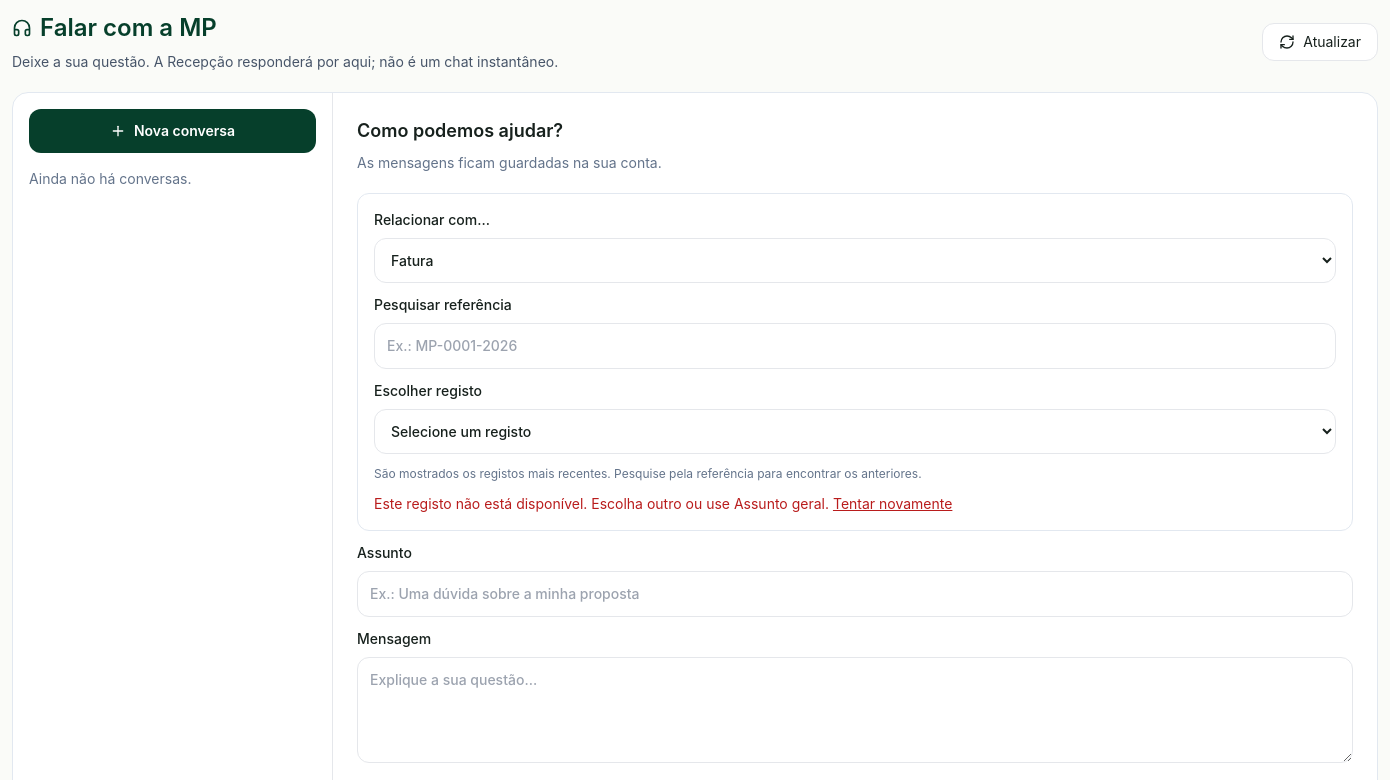
Test case: SupportDesk › blocks an unavailable deep link and permits switching to general
The image size is (1390, 780).
Check: the message shows "Este registo não está disponível", box [374, 495, 829, 512]
Type "Ajuda" into the field labelled "Assunto" at (855, 594), box [357, 571, 1353, 617]
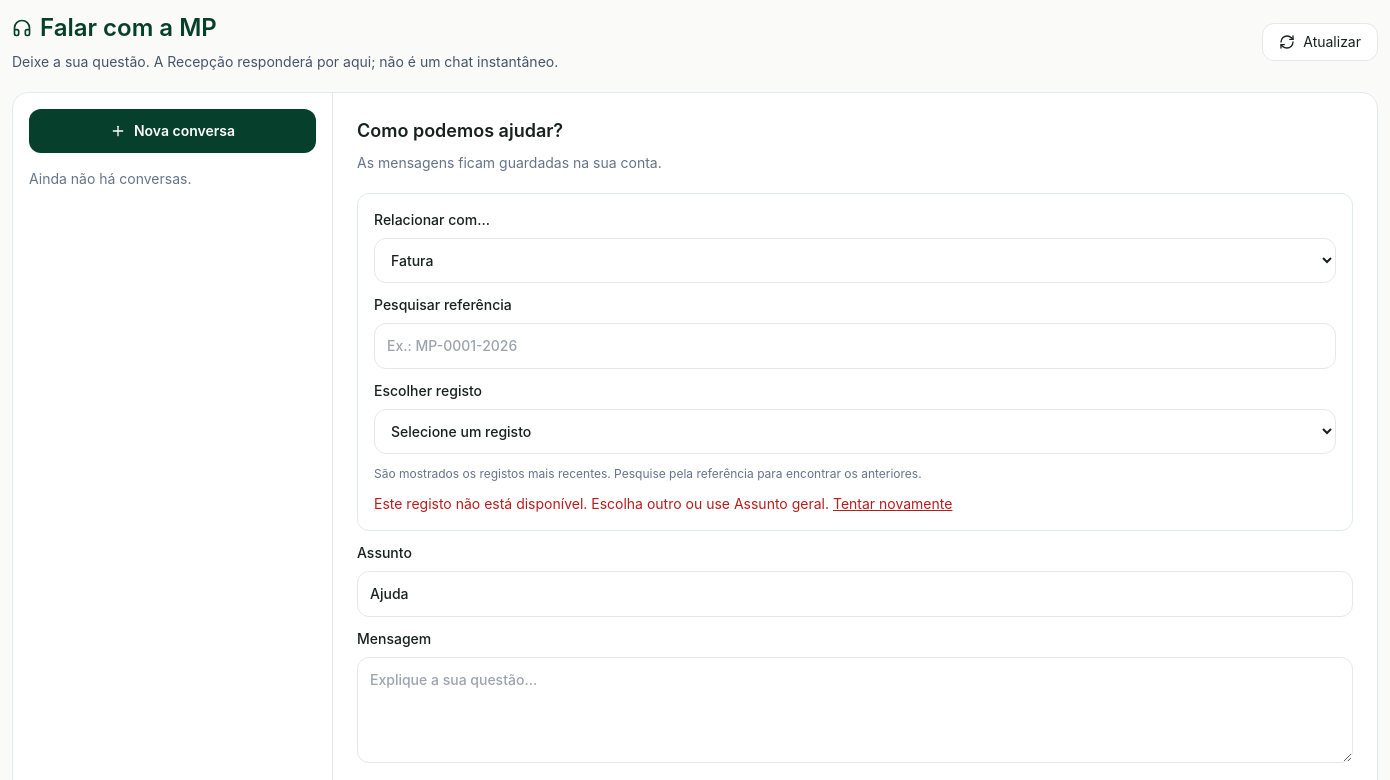
Type "Questão geral" into the text box labelled "Mensagem" at (855, 710), box [357, 657, 1353, 763]
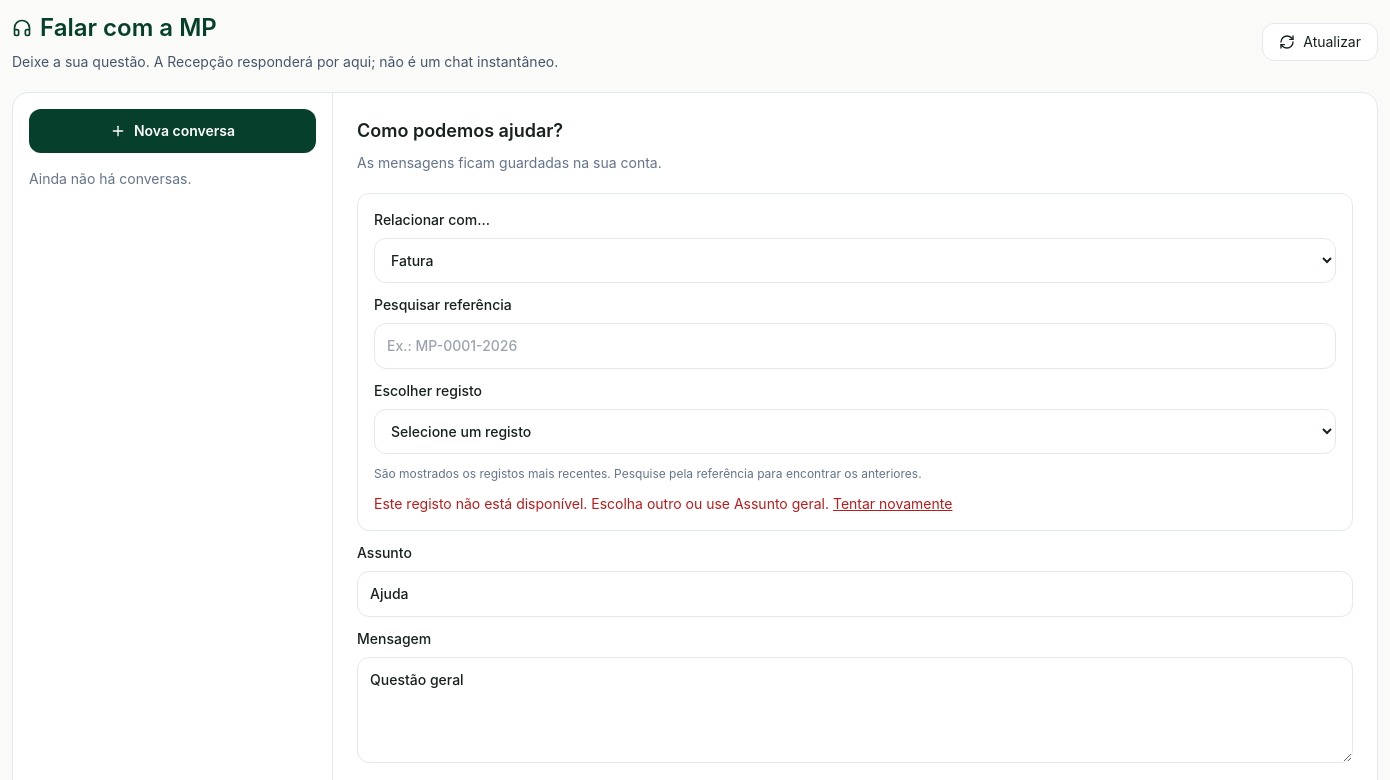
Select "Assunto geral" in the dropdown labelled "Relacionar com…" at (855, 260), box [374, 238, 1336, 283]
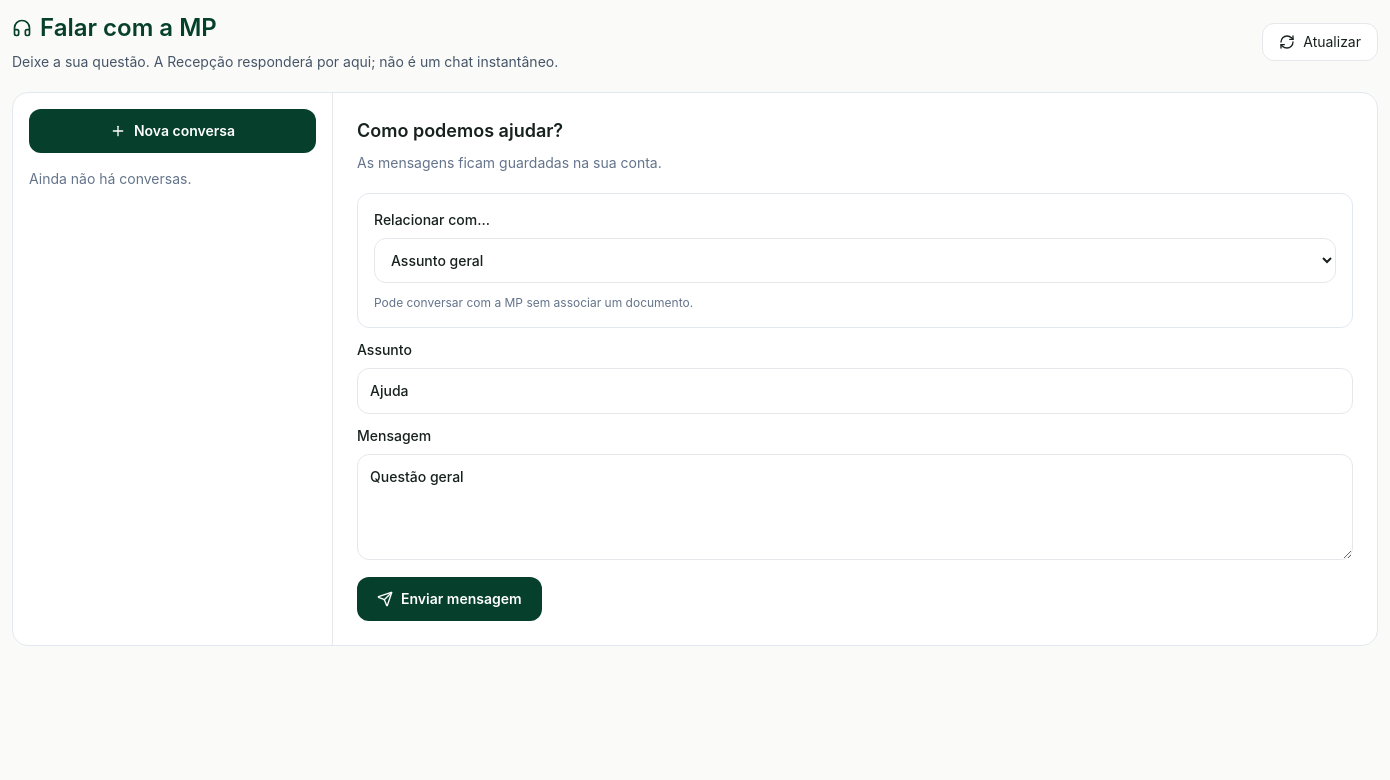
Check: the button "Enviar mensagem" is enabled, box [357, 577, 542, 621]
